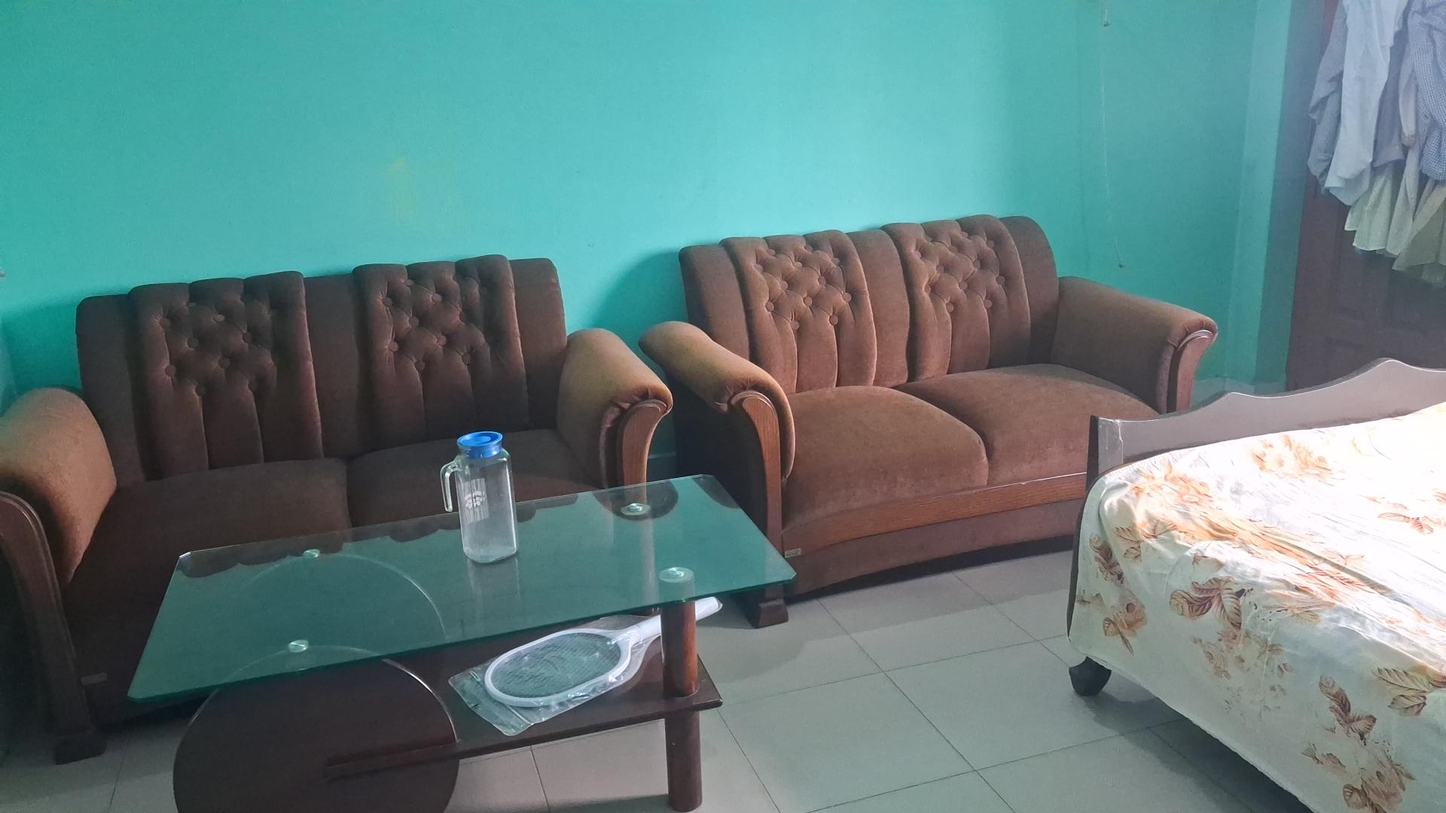Jug: (440, 426, 521, 567)
Table: (124, 471, 794, 804)
